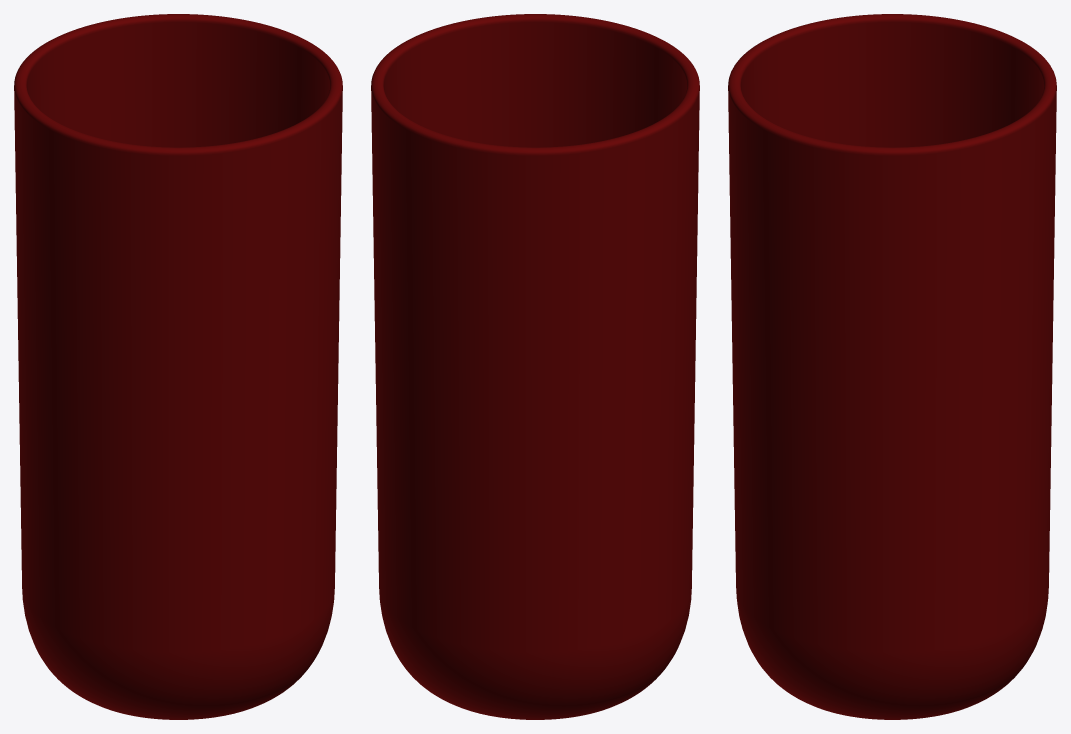
File: oceanmodel19.glb
The picture shows the model from 3 angles, left to right: view 1: azimuth 30°, elevation 25°; view 2: azimuth 150°, elevation 25°; view 3: azimuth 270°, elevation 25°; orthographic projection.
Bounding box in the file's own units: 0.062 × 0.123 × 0.062.
